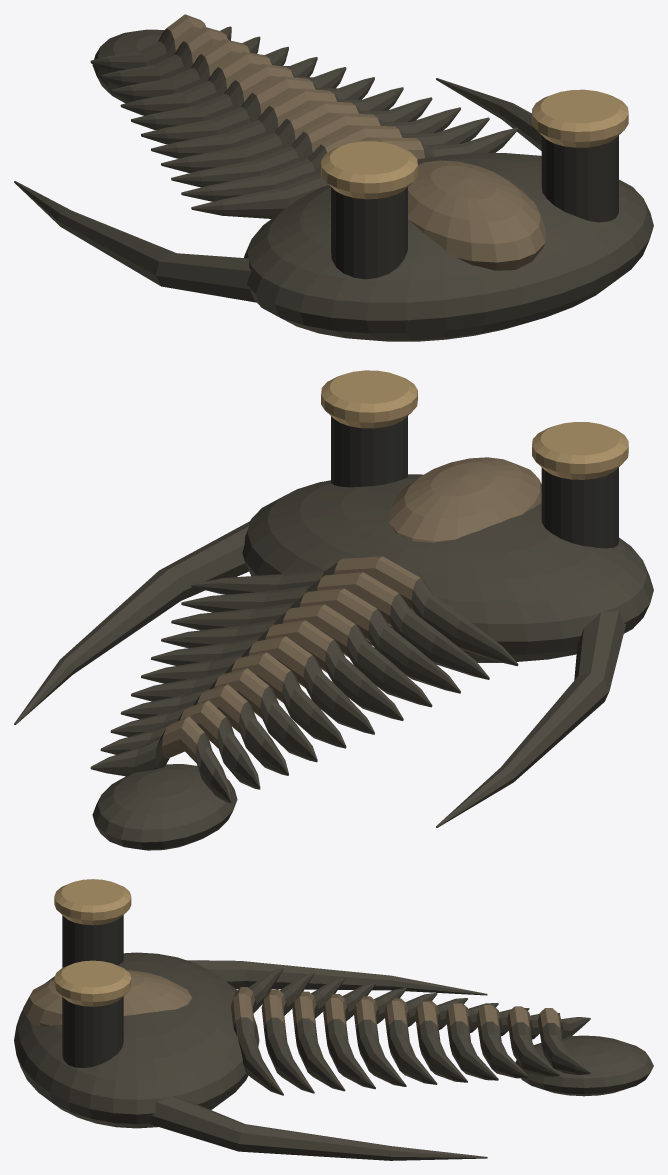
Rendered from erbenochile.glb.
The picture shows the model from 3 angles, top to bottom: view 1: azimuth 30°, elevation 25°; view 2: azimuth 150°, elevation 25°; view 3: azimuth 270°, elevation 25°; orthographic projection. The views are drawn at different scales.
Parts seen in each view (by area): view 1: eleven-editable-rib-sections, vaulted-cephalon, central-glabella, left-eye-turret, right-eye-turret, swept-genal-spine--1, swept-genal-spine-1, small-tapering-pygidium; view 2: eleven-editable-rib-sections, vaulted-cephalon, left-eye-turret, central-glabella, right-eye-turret, small-tapering-pygidium, swept-genal-spine-1, swept-genal-spine--1; view 3: eleven-editable-rib-sections, vaulted-cephalon, swept-genal-spine-1, right-eye-turret, left-eye-turret, small-tapering-pygidium, swept-genal-spine--1, central-glabella.
Part boxes in pixels (x1=…): eleven-editable-rib-sections: x1=90, y1=14, x2=518, y2=218; vaulted-cephalon: x1=244, y1=153, x2=653, y2=341; central-glabella: x1=408, y1=160, x2=545, y2=270; left-eye-turret: x1=321, y1=141, x2=417, y2=279; right-eye-turret: x1=532, y1=89, x2=628, y2=222; swept-genal-spine--1: x1=14, y1=181, x2=256, y2=302; swept-genal-spine-1: x1=436, y1=78, x2=541, y2=150; small-tapering-pygidium: x1=92, y1=29, x2=164, y2=103; eleven-editable-rib-sections: x1=90, y1=556, x2=518, y2=803; vaulted-cephalon: x1=242, y1=474, x2=653, y2=662; left-eye-turret: x1=532, y1=422, x2=628, y2=548; central-glabella: x1=389, y1=457, x2=541, y2=542; right-eye-turret: x1=321, y1=370, x2=417, y2=487; small-tapering-pygidium: x1=92, y1=764, x2=237, y2=850; swept-genal-spine-1: x1=14, y1=521, x2=249, y2=724; swept-genal-spine--1: x1=436, y1=610, x2=625, y2=827; eleven-editable-rib-sections: x1=231, y1=967, x2=590, y2=1095; vaulted-cephalon: x1=14, y1=952, x2=259, y2=1128; swept-genal-spine-1: x1=150, y1=1096, x2=487, y2=1160; right-eye-turret: x1=54, y1=960, x2=131, y2=1067; left-eye-turret: x1=54, y1=879, x2=131, y2=967; small-tapering-pygidium: x1=515, y1=1035, x2=653, y2=1096; swept-genal-spine--1: x1=187, y1=960, x2=487, y2=995; central-glabella: x1=23, y1=970, x2=192, y2=1026.
Bounding box in the file's own units: 0.0478 × 0.0195 × 0.073.
